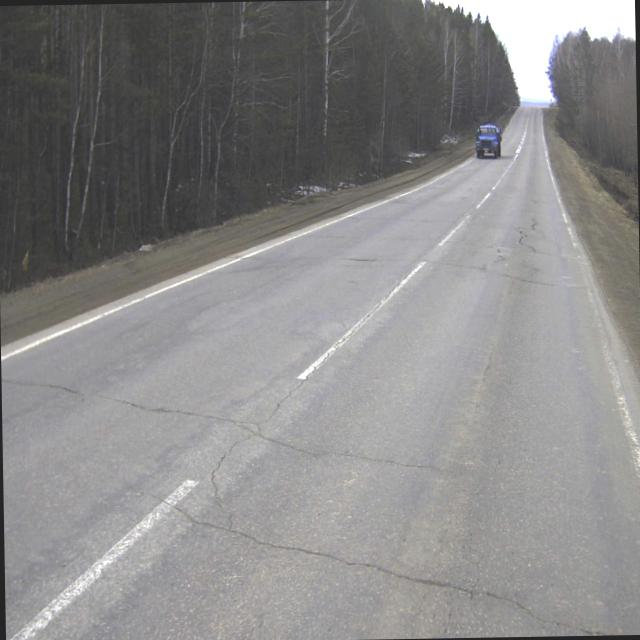road: (1, 105, 640, 640)
